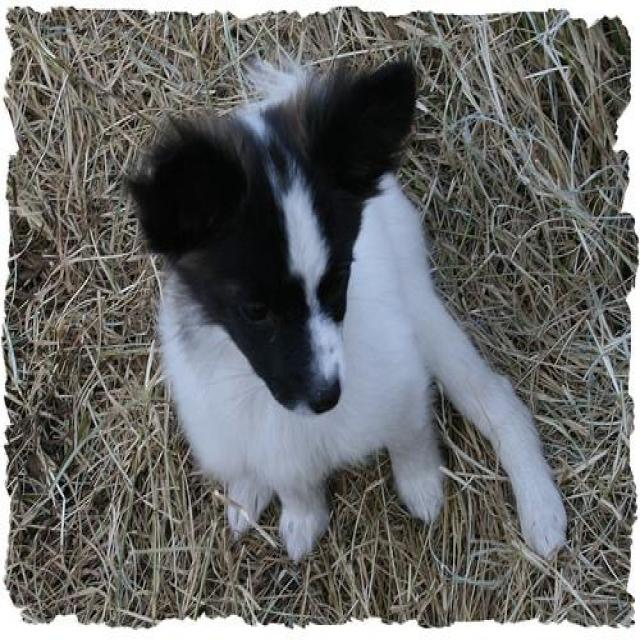papillon: (113, 46, 571, 562)
